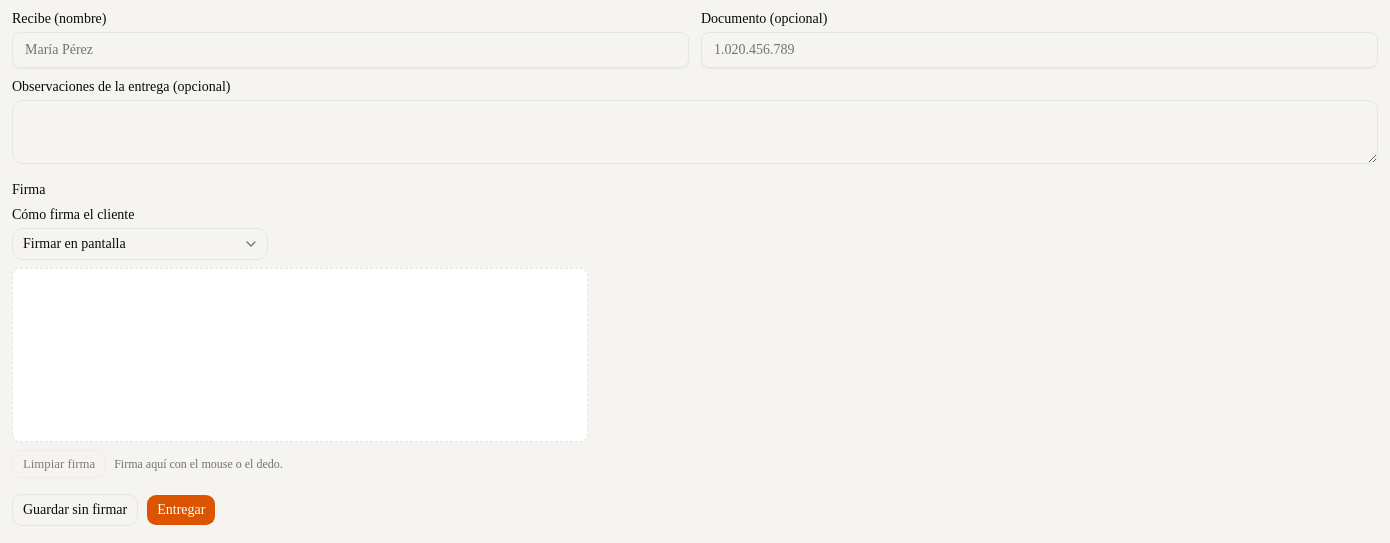
Test: ActaEntregaForm › permite cambiar a la foto del acta firmada
This screenshot has width=1390, height=543.
Click the dropdown named "Cómo firma el cliente".
click(140, 244)  # box [12,228,268,260]
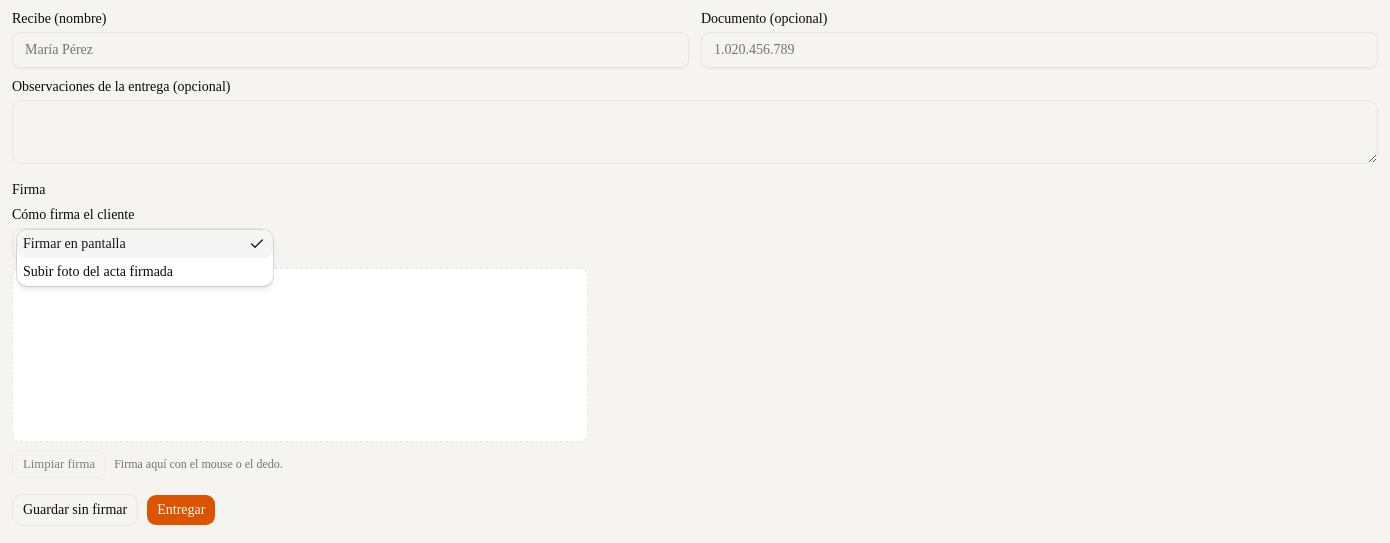
Click the option "Subir foto del acta firmada".
click(98, 272)  # box [23,264,173,279]
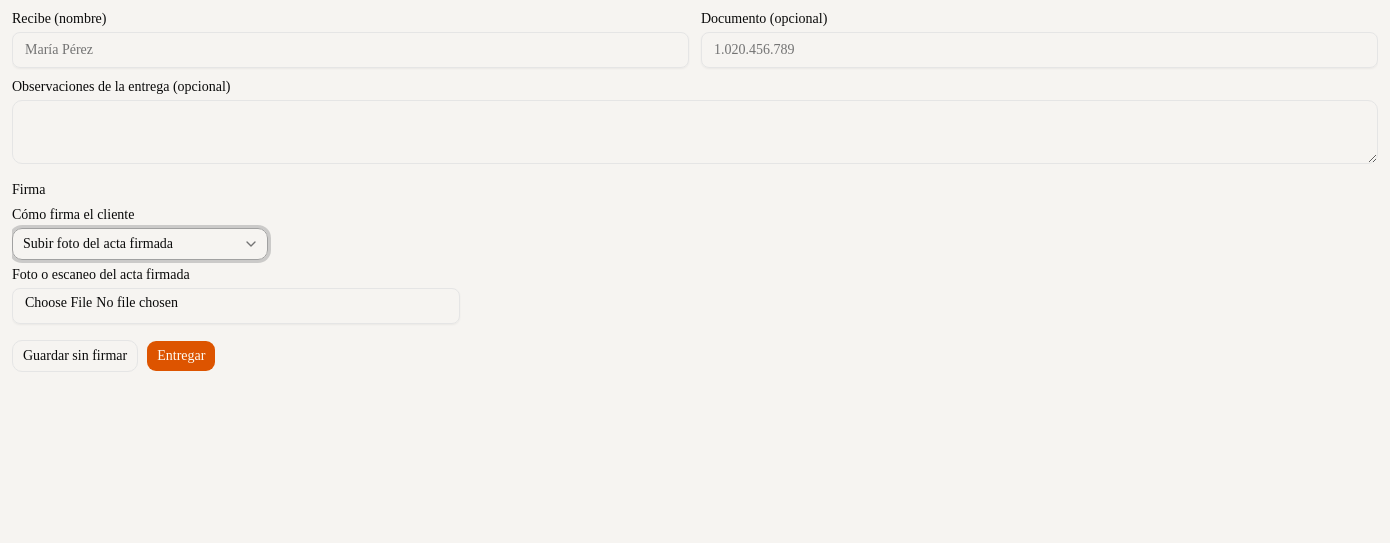
Expected: the file field labelled "Foto o escaneo del acta firmada" is shown, [12,288,460,324]
